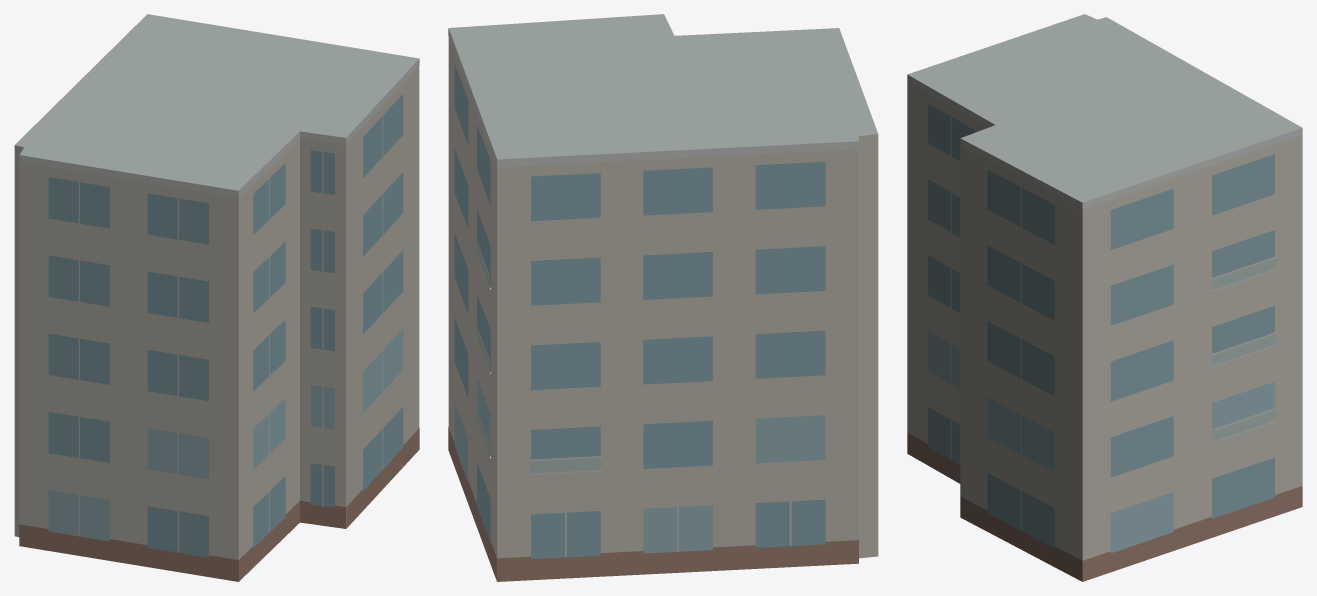
File: survey-upis-32853029.glb
3 views of the same model, side by side, from view 1: azimuth 30°, elevation 25°; view 2: azimuth 150°, elevation 25°; view 3: azimuth 270°, elevation 25° (orthographic). The views are drawn at different scales.
Parts seen in each view (by area): view 1: survey-upis-32853029.tmp; view 2: survey-upis-32853029.tmp; view 3: survey-upis-32853029.tmp.
Boxes of the visible parts, x1,y1,x2,y2 form: survey-upis-32853029.tmp: [14, 14, 419, 581]; survey-upis-32853029.tmp: [448, 14, 878, 581]; survey-upis-32853029.tmp: [907, 14, 1302, 581].
Bounding box in the file's own units: 14.1 × 13.2 × 12.48.
